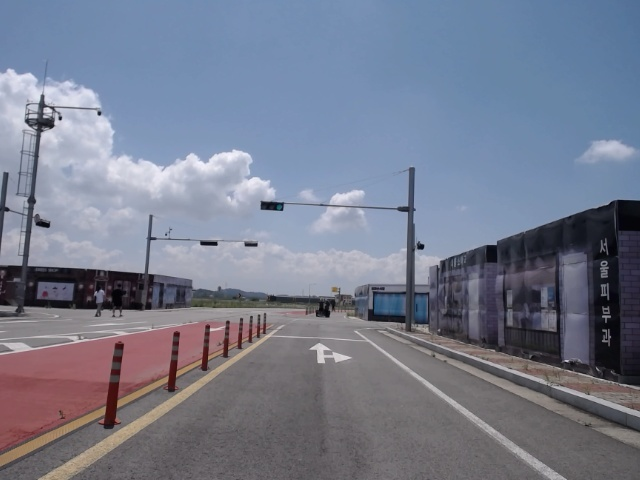green_3: (262, 202, 283, 209)
